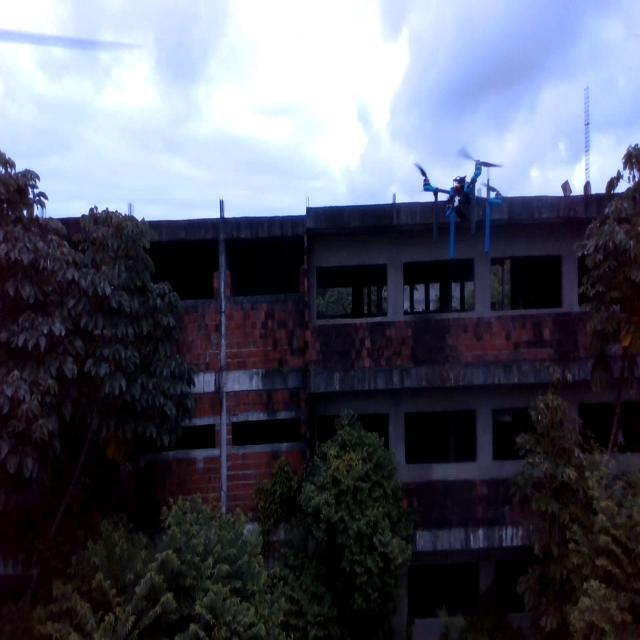-uav-: (402, 141, 514, 268)
